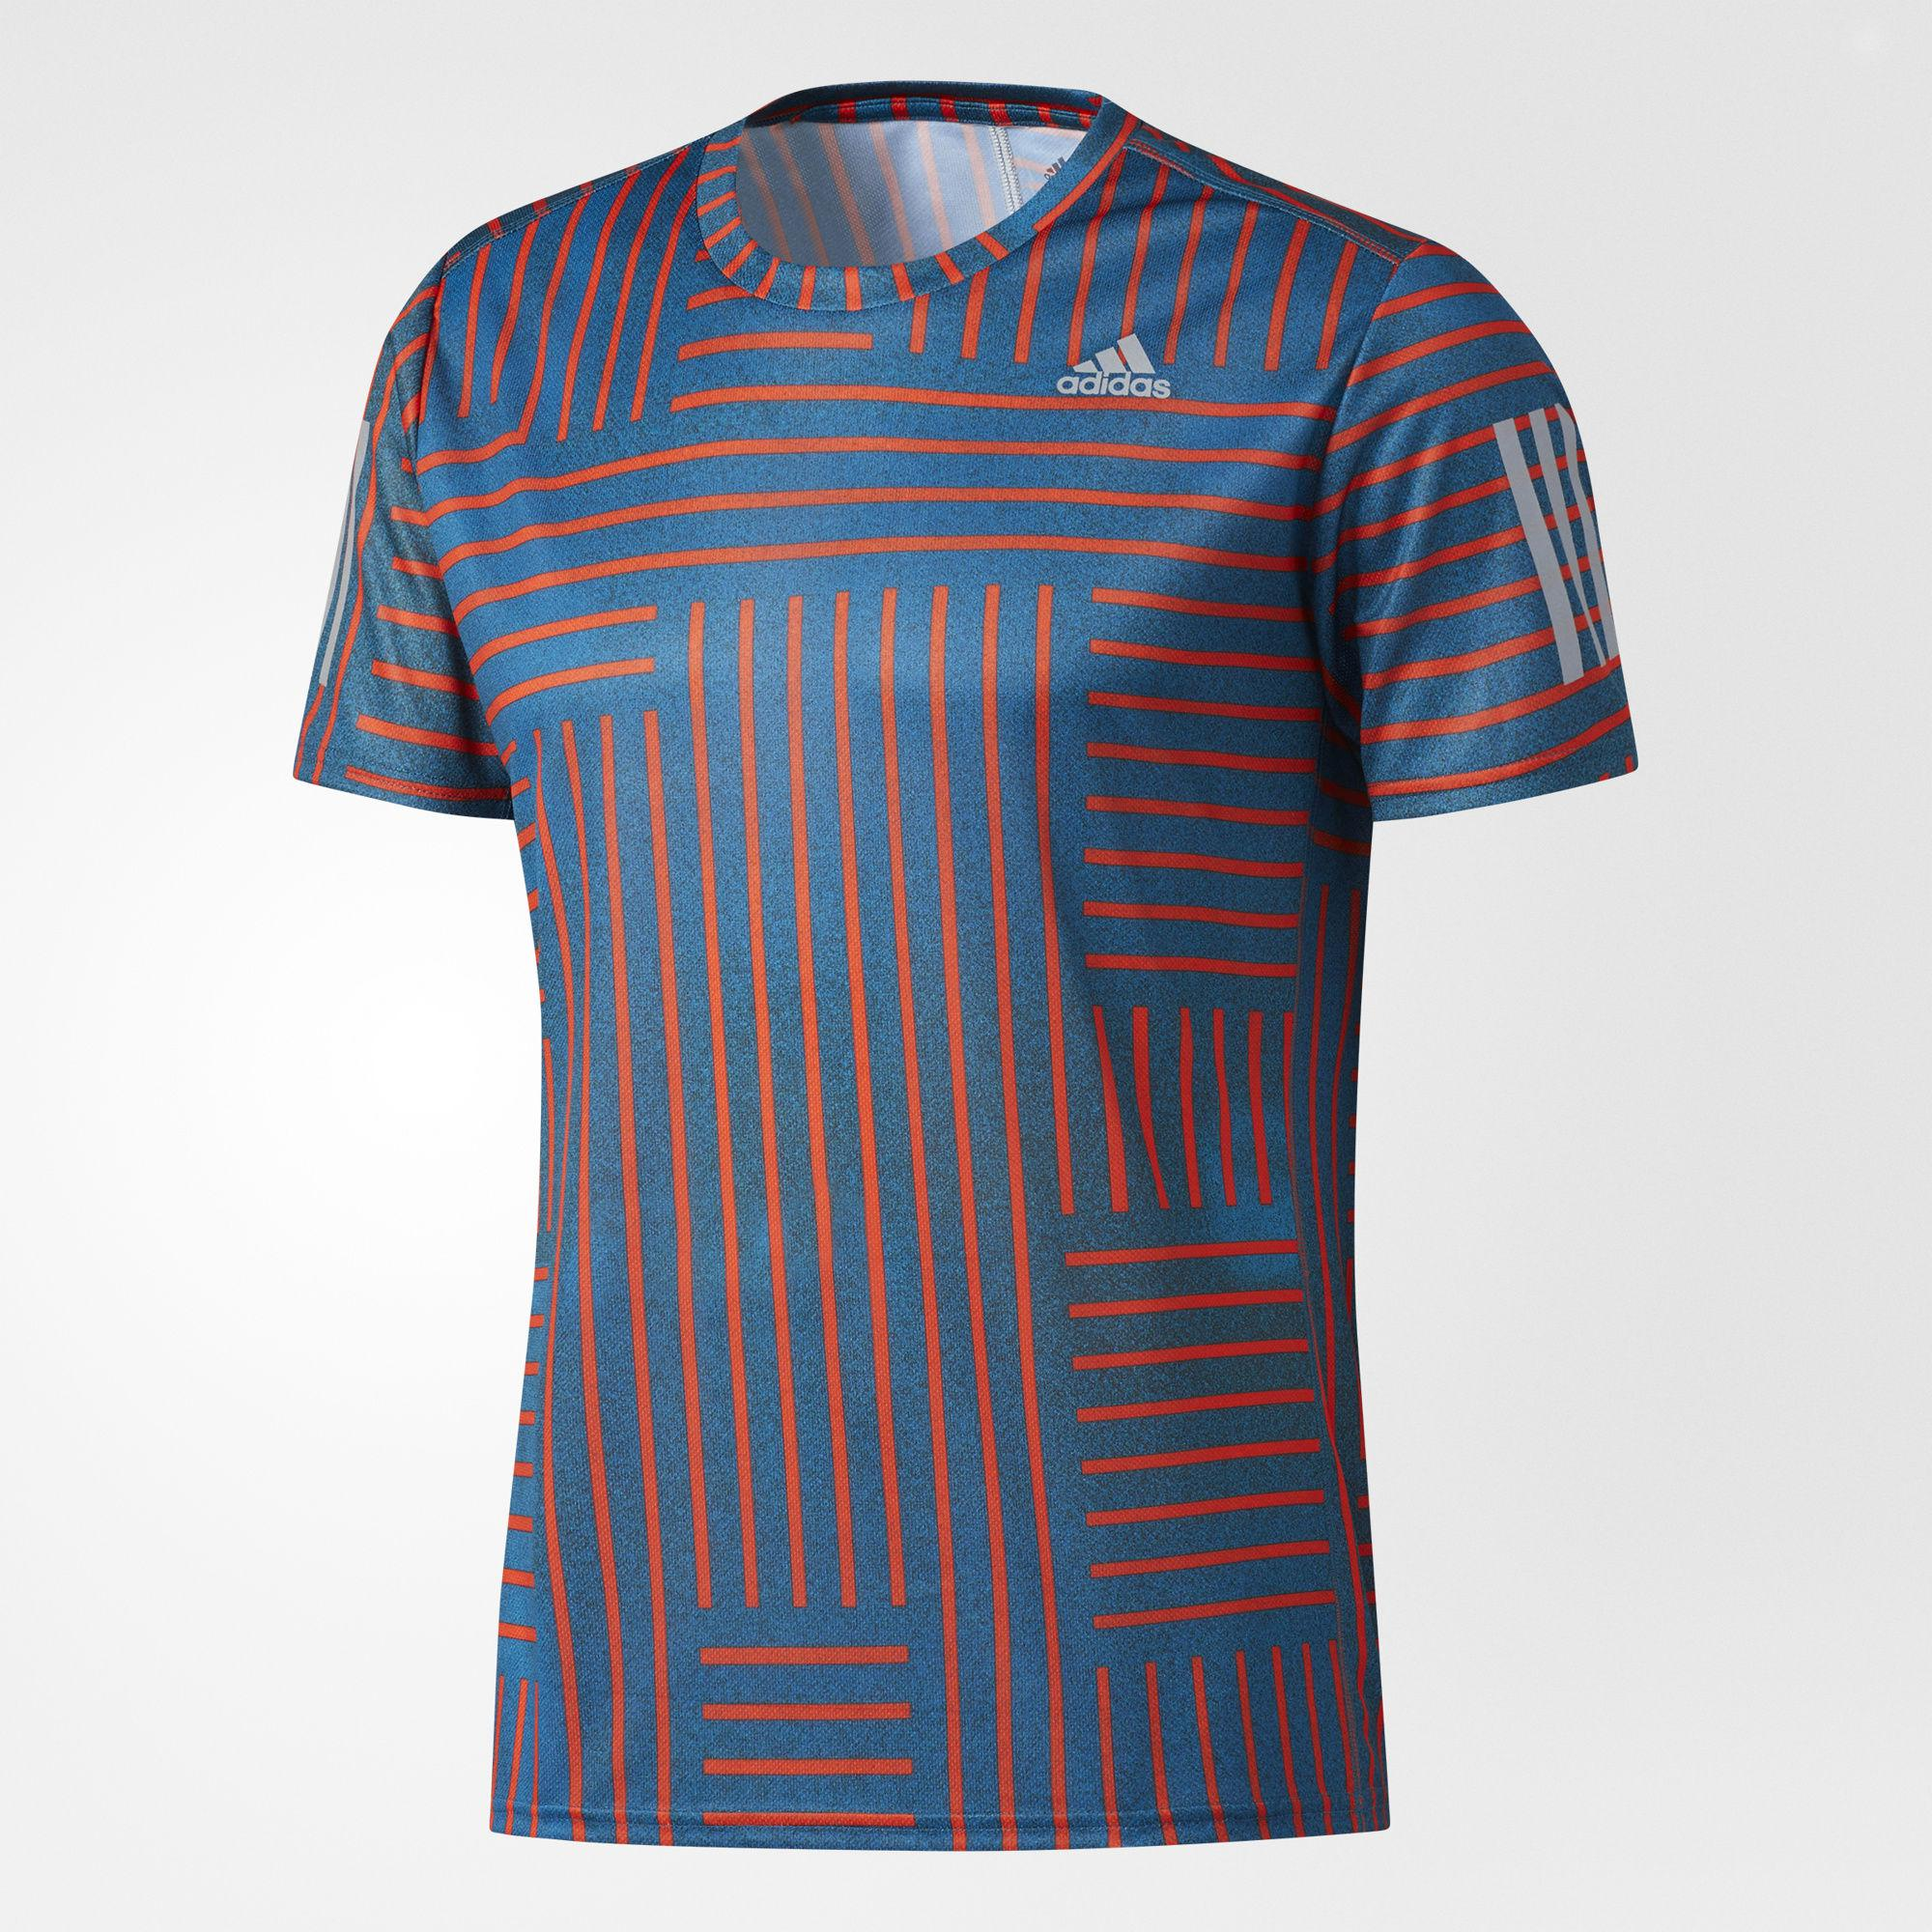teeshirt: (265, 67, 1621, 1888)
